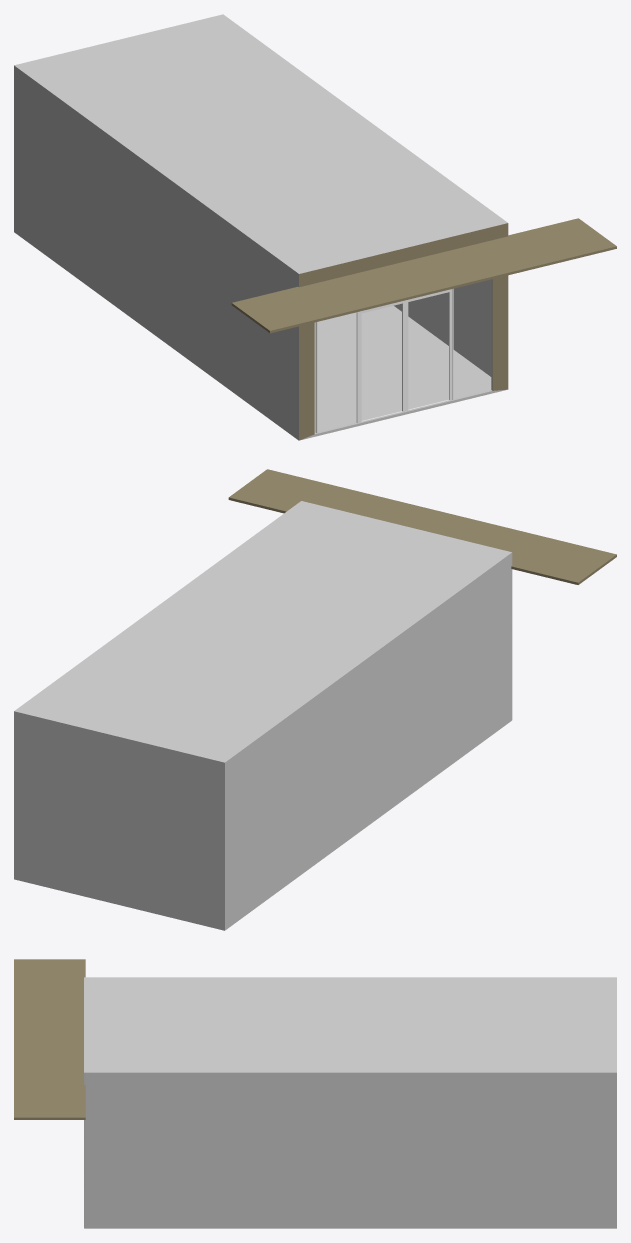
The model's file is apotek_shell.glb.
The picture shows the model from 3 angles, top to bottom: view 1: azimuth 30°, elevation 25°; view 2: azimuth 150°, elevation 25°; view 3: azimuth 270°, elevation 25°; orthographic projection. The views are drawn at different scales.
Parts seen in each view (by area): view 1: ceiling, wall left, hall ceiling, floor, store wall, wall right, right door, left door, wall back; view 2: ceiling, wall left, wall back, hall ceiling, wall right; view 3: wall right, ceiling, hall ceiling, wall left, wall back, store wall.
Part boxes in pixels (left/top/right/bottom): ceiling: left=18, top=16, right=505, bottom=272; wall left: left=15, top=66, right=300, bottom=440; hall ceiling: left=231, top=218, right=616, bottom=333; floor: left=314, top=306, right=491, bottom=432; store wall: left=297, top=223, right=508, bottom=440; wall right: left=222, top=15, right=507, bottom=376; right door: left=405, top=289, right=451, bottom=411; left door: left=359, top=300, right=405, bottom=422; wall back: left=14, top=14, right=223, bottom=232; ceiling: left=18, top=501, right=508, bottom=760; wall left: left=224, top=552, right=511, bottom=929; wall back: left=14, top=710, right=226, bottom=930; hall ceiling: left=228, top=469, right=616, bottom=584; wall right: left=15, top=501, right=302, bottom=710; wall right: left=84, top=1071, right=614, bottom=1228; ceiling: left=84, top=978, right=614, bottom=1071; hall ceiling: left=14, top=959, right=85, bottom=1119; wall left: left=84, top=977, right=614, bottom=978; wall back: left=614, top=977, right=616, bottom=1228; store wall: left=84, top=977, right=86, bottom=1228.
Size of the model in its own units: 7.31 by 3.36 by 11.78.
